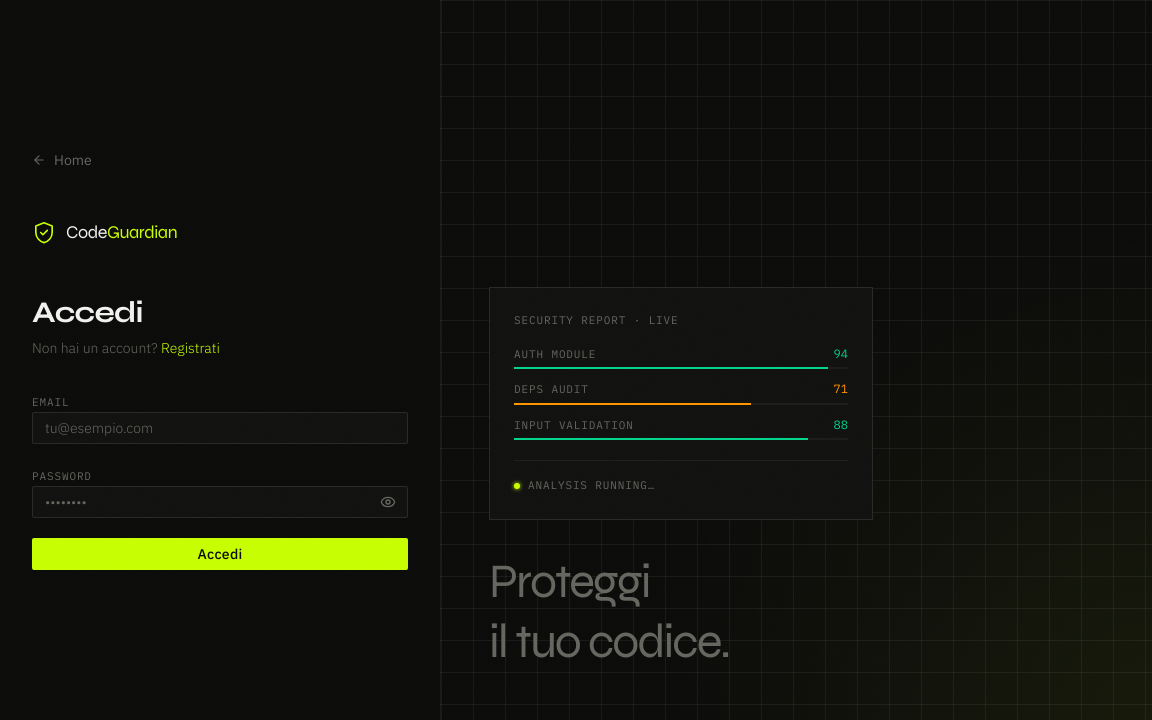
Test: LoginPage › shows error when password is empty
This screenshot has width=1152, height=720.
Type "user@test.com" into the field with placeholder "tu@esempio.com" at (220, 428), box x1=32 y1=412 x2=408 y2=444
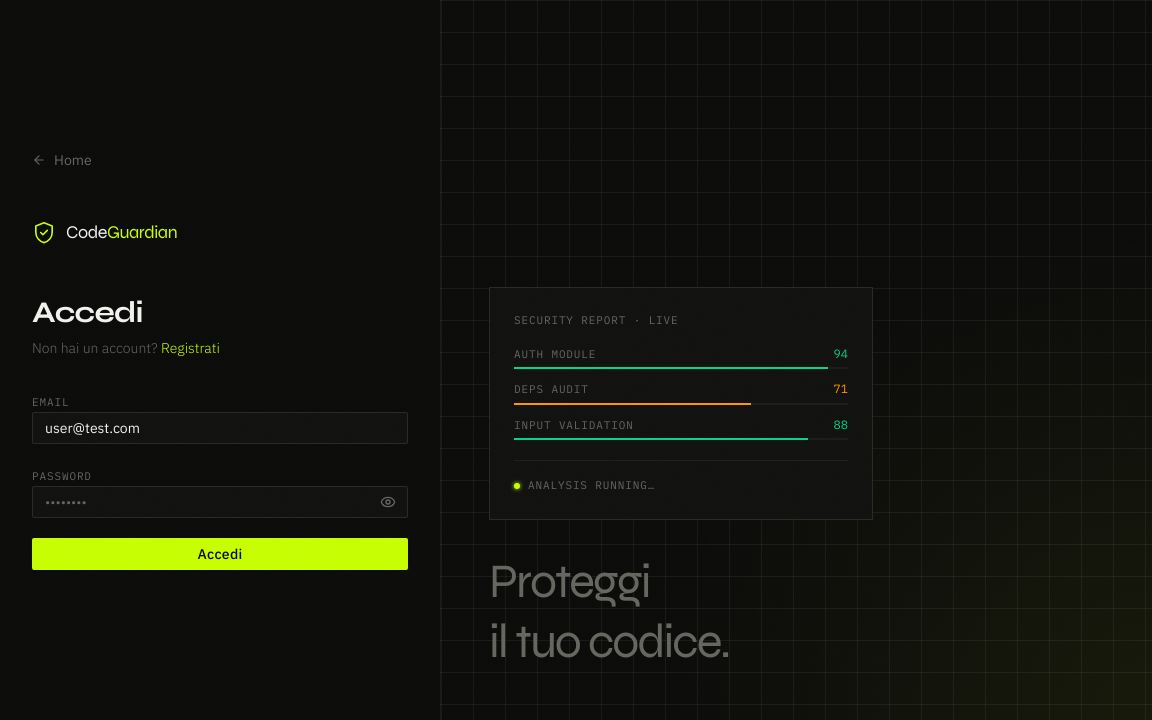
Click the button "Accedi" at (220, 554), box x1=32 y1=538 x2=408 y2=570
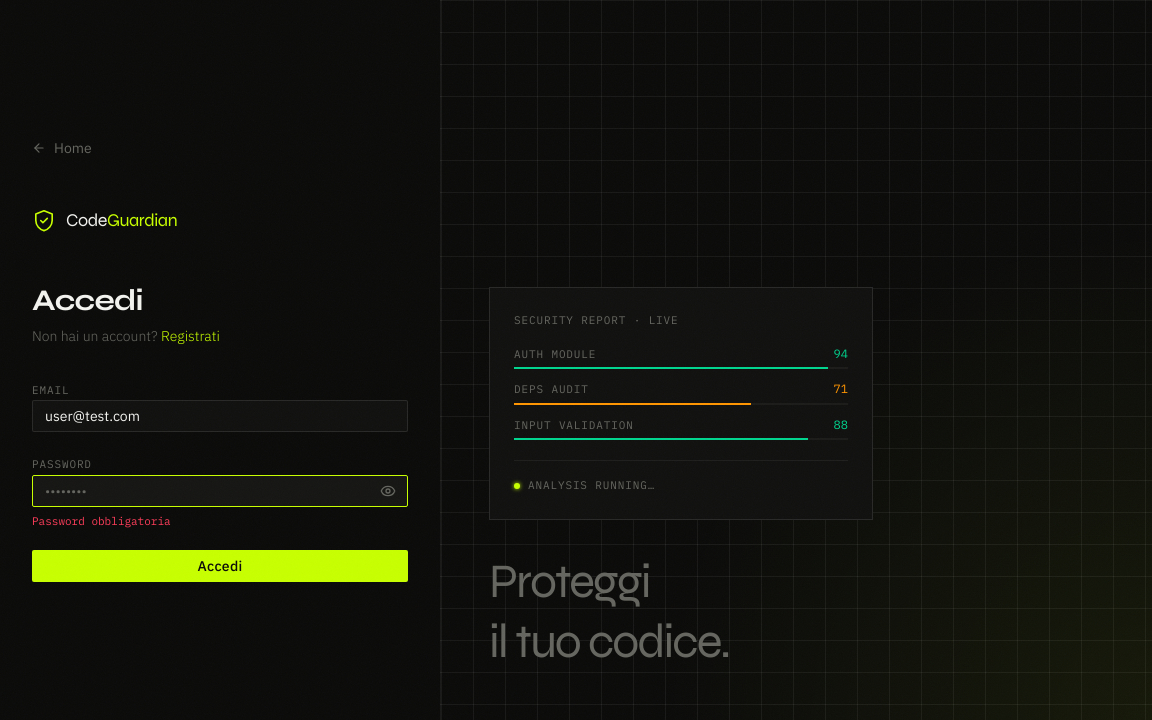
Expected: the text "Password obbligatoria" is shown, x1=32 y1=514 x2=171 y2=528
